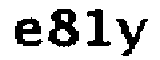1: (84, 6, 114, 49)
8: (47, 6, 81, 52)
e: (12, 16, 43, 49)
y: (113, 16, 151, 60)
